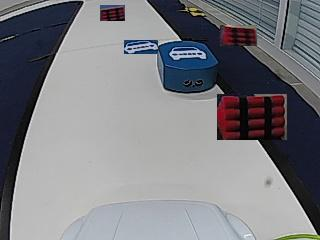safety: (169, 46, 207, 60)
